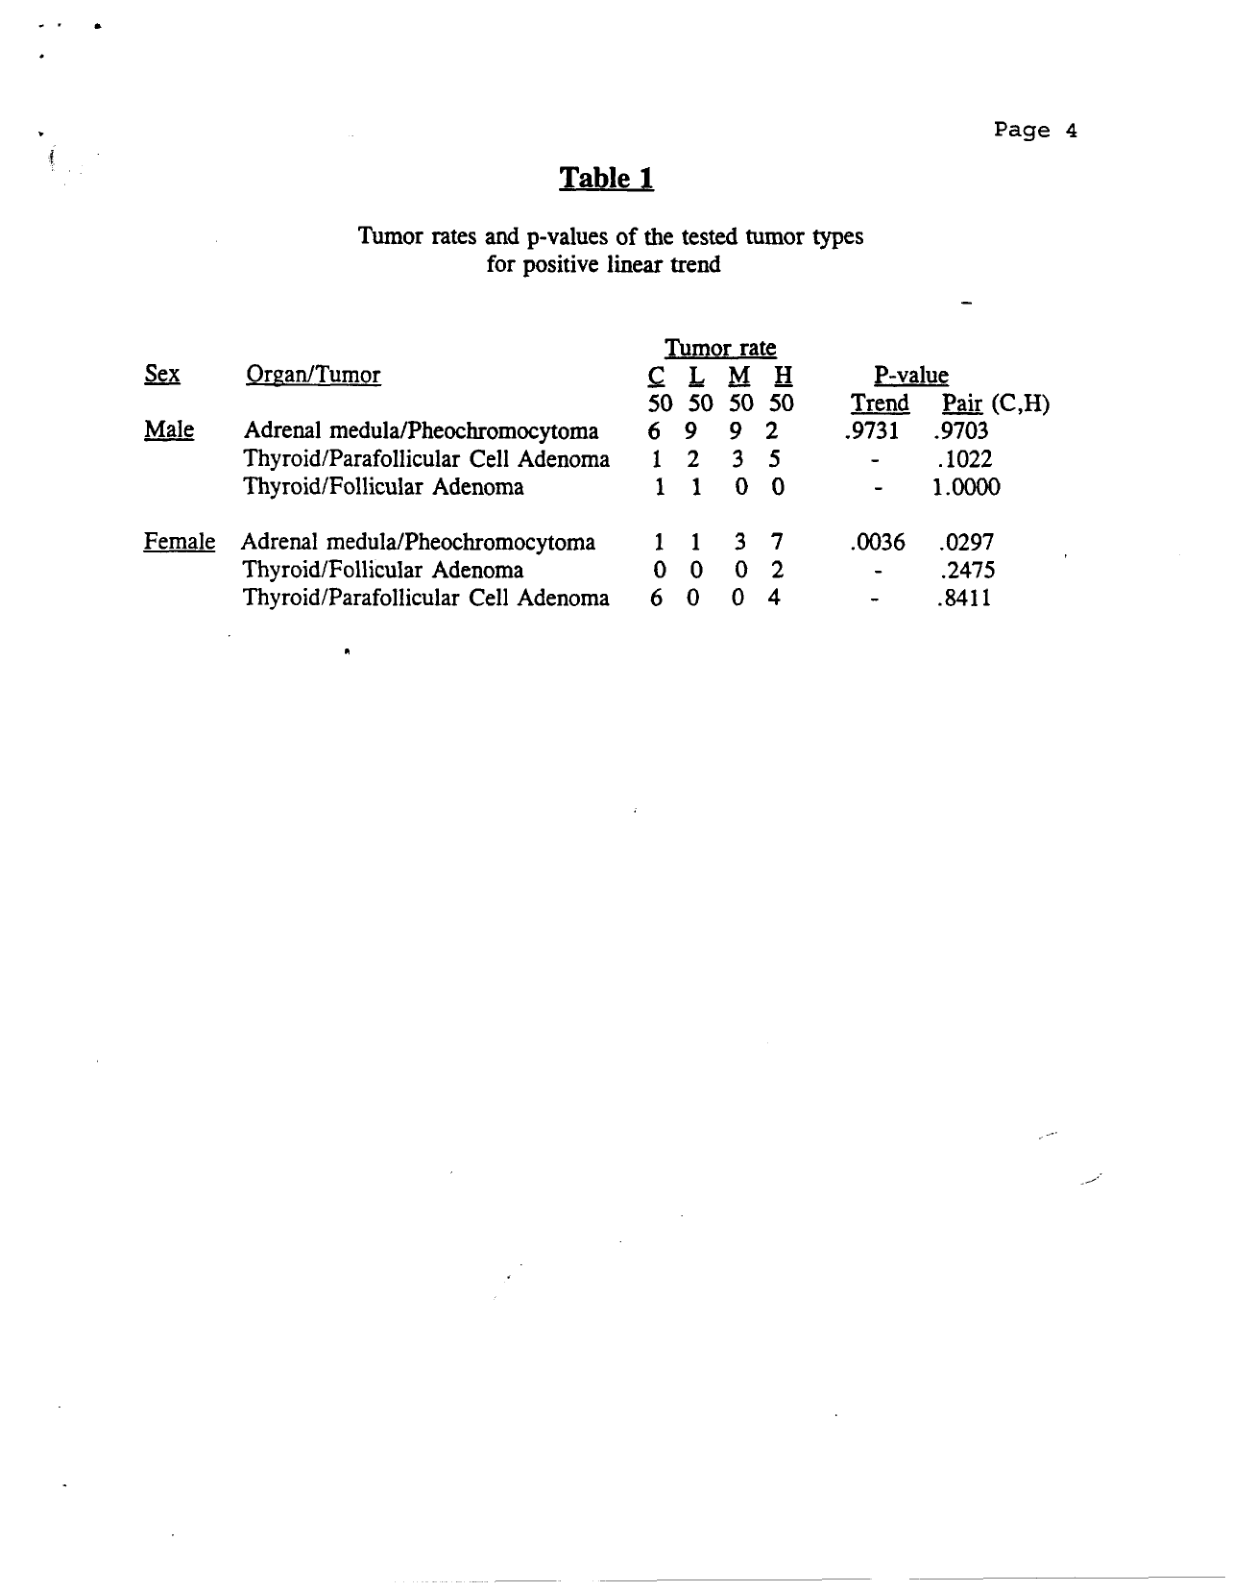nolines: (141, 336, 1052, 611)
